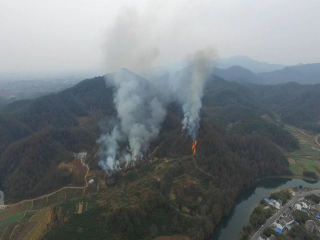smoke: (98, 3, 213, 177)
